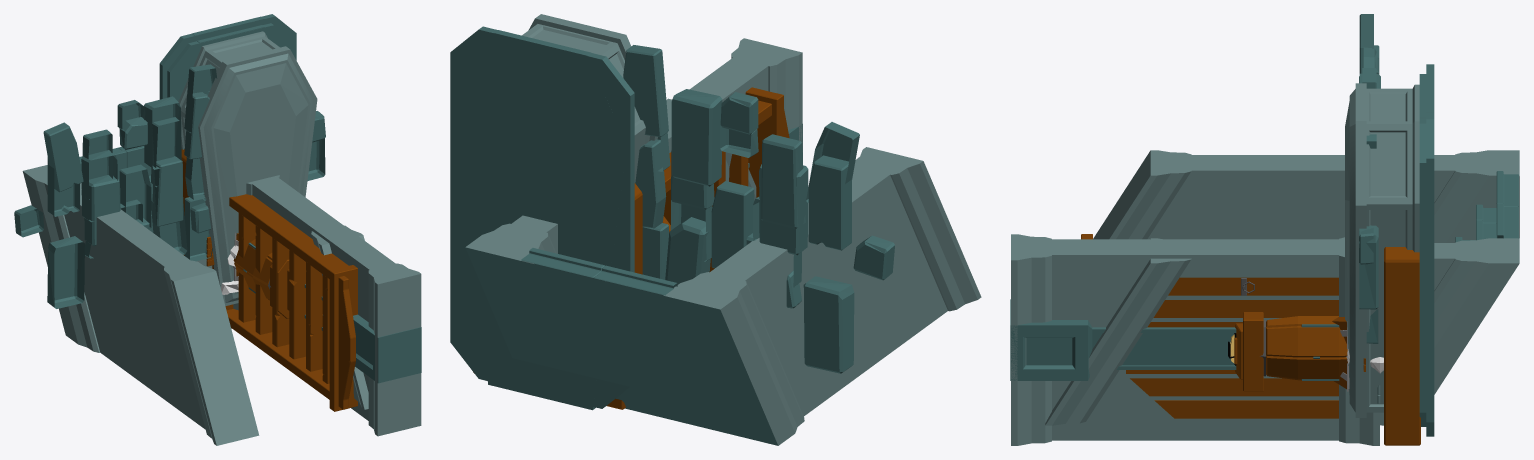
The model's file is modular-dungeon-kit.glb.
The picture shows the model from 3 angles, left to right: view 1: azimuth 30°, elevation 25°; view 2: azimuth 150°, elevation 25°; view 3: azimuth 270°, elevation 25°; orthographic projection. The views are drawn at different scales.
Parts seen in each view (by area): view 1: Staircase_02 - Default_0, BookCase_A_08 - Default_0, Wall_Piece_02 - Default_0, Coffin_B_02 - Default_0, Coffin_A_02 - Default_0, Wall_Stones_C_03 - Default_0, Wall_Stones_F_03 - Default_0, Wall_Stones_A_03 - Default_0, Coffin_A_03 - Default_0, Pillar_03 - Default_0, Wall_Stones_B_03 - Default_0, Wall_Piece_Door_02 - Default_0 (+6 smaller); view 2: Staircase_02 - Default_0, Coffin_B_03 - Default_0, Staircase_03 - Default_0, Wall_Stones_B_03 - Default_0, Coffin_A_03 - Default_0, Wall_Stones_D_03 - Default_0, Wall_Piece_02 - Default_0, Wall_Stones_C_03 - Default_0, Wall_Stones_A_03 - Default_0, Wall_Stones_E_03 - Default_0, BookCase_A_08 - Default_0, Coffin_A_02 - Default_0 (+4 smaller); view 3: Staircase_02 - Default_0, Wall_Piece_02 - Default_0, Coffin_A_02 - Default_0, Wall_Piece_Door_02 - Default_0, Wall_Piece_Door_08 - Default_0, Pillar_03 - Default_0, Door_08 - Default_0, Coffin_A_03 - Default_0, Barrel_08 - Default_0, Staircase_03 - Default_0, Pulpit_Book_Open_08 - Default_0, Coffin_B_02 - Default_0 (+4 smaller).
Part boxes in pixels (x1=…): Staircase_02 - Default_0: x1=22, y1=165, x2=368, y2=445; BookCase_A_08 - Default_0: x1=212, y1=194, x2=357, y2=411; Wall_Piece_02 - Default_0: x1=231, y1=175, x2=421, y2=436; Coffin_B_02 - Default_0: x1=200, y1=46, x2=308, y2=299; Coffin_A_02 - Default_0: x1=178, y1=31, x2=317, y2=306; Wall_Stones_C_03 - Default_0: x1=15, y1=97, x2=205, y2=308; Wall_Stones_F_03 - Default_0: x1=43, y1=91, x2=325, y2=246; Wall_Stones_A_03 - Default_0: x1=81, y1=64, x2=325, y2=261; Coffin_A_03 - Default_0: x1=159, y1=14, x2=296, y2=101; Pillar_03 - Default_0: x1=248, y1=242, x2=421, y2=383; Wall_Stones_B_03 - Default_0: x1=14, y1=96, x2=191, y2=306; Wall_Piece_Door_02 - Default_0: x1=246, y1=180, x2=412, y2=433; Staircase_02 - Default_0: x1=465, y1=98, x2=981, y2=445; Coffin_B_03 - Default_0: x1=454, y1=30, x2=626, y2=410; Staircase_03 - Default_0: x1=465, y1=247, x2=778, y2=445; Wall_Stones_B_03 - Default_0: x1=635, y1=94, x2=893, y2=373; Coffin_A_03 - Default_0: x1=450, y1=26, x2=634, y2=408; Wall_Stones_D_03 - Default_0: x1=623, y1=45, x2=805, y2=278; Wall_Piece_02 - Default_0: x1=667, y1=38, x2=802, y2=152; Wall_Stones_C_03 - Default_0: x1=642, y1=89, x2=894, y2=365; Wall_Stones_A_03 - Default_0: x1=628, y1=45, x2=808, y2=279; Wall_Stones_E_03 - Default_0: x1=657, y1=120, x2=858, y2=287; BookCase_A_08 - Default_0: x1=663, y1=87, x2=789, y2=271; Coffin_A_02 - Default_0: x1=522, y1=14, x2=657, y2=182; Staircase_02 - Default_0: x1=1045, y1=150, x2=1519, y2=425; Wall_Piece_02 - Default_0: x1=1011, y1=234, x2=1379, y2=445; Coffin_A_02 - Default_0: x1=1349, y1=83, x2=1419, y2=417; Wall_Piece_Door_02 - Default_0: x1=1011, y1=234, x2=1379, y2=445; Wall_Piece_Door_08 - Default_0: x1=1126, y1=277, x2=1338, y2=418; Pillar_03 - Default_0: x1=1010, y1=299, x2=1339, y2=380; Door_08 - Default_0: x1=1384, y1=247, x2=1420, y2=445; Coffin_A_03 - Default_0: x1=1419, y1=64, x2=1434, y2=436; Barrel_08 - Default_0: x1=1266, y1=316, x2=1347, y2=380; Staircase_03 - Default_0: x1=1455, y1=171, x2=1519, y2=242; Pulpit_Book_Open_08 - Default_0: x1=1234, y1=312, x2=1263, y2=391; Coffin_B_02 - Default_0: x1=1345, y1=83, x2=1366, y2=417.
Size of the model in its own units: 41.29 by 36.19 by 48.94.
